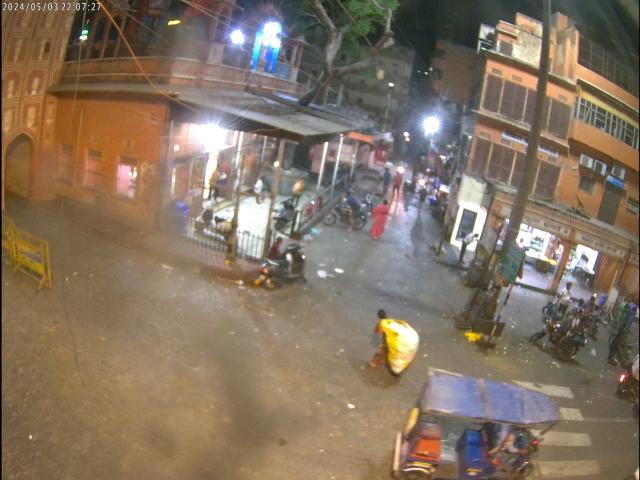auto: (391, 367, 563, 480)
scooty: (260, 244, 310, 286)
